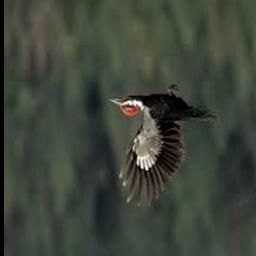Woodpecker: (108, 84, 217, 208)
